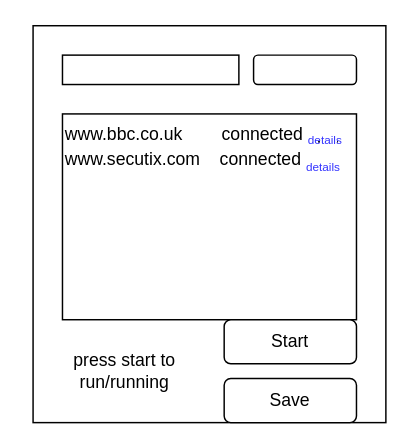
The diagram is 412 pixels wide and 448 high, and some of its shapes have lost their labels. Here are the shapes that lost their labels. From the top down, the centre of each, then its label:
At [150,69]: "type address here..".
At [304,69]: "enter".
